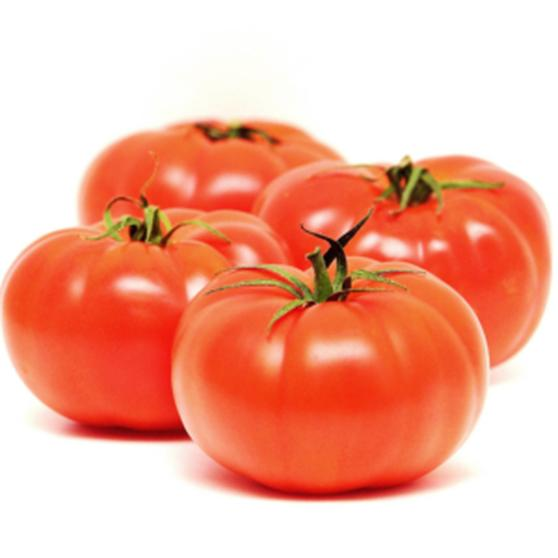tomato: (162, 239, 493, 500)
